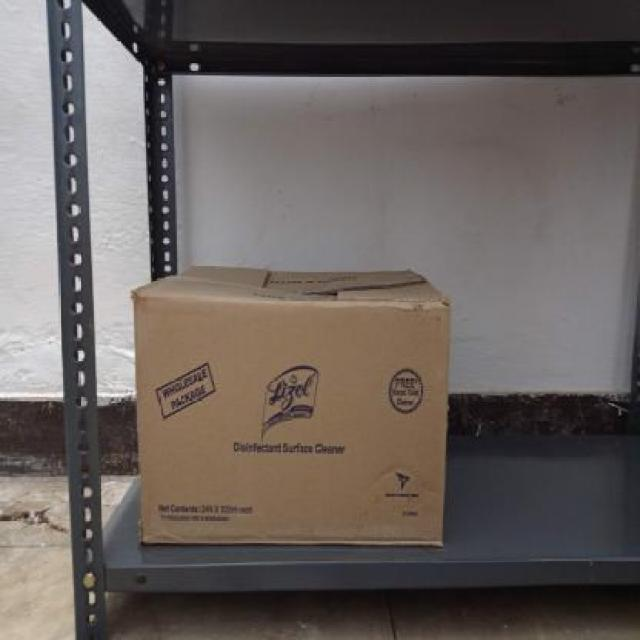box: (132, 292, 448, 543)
